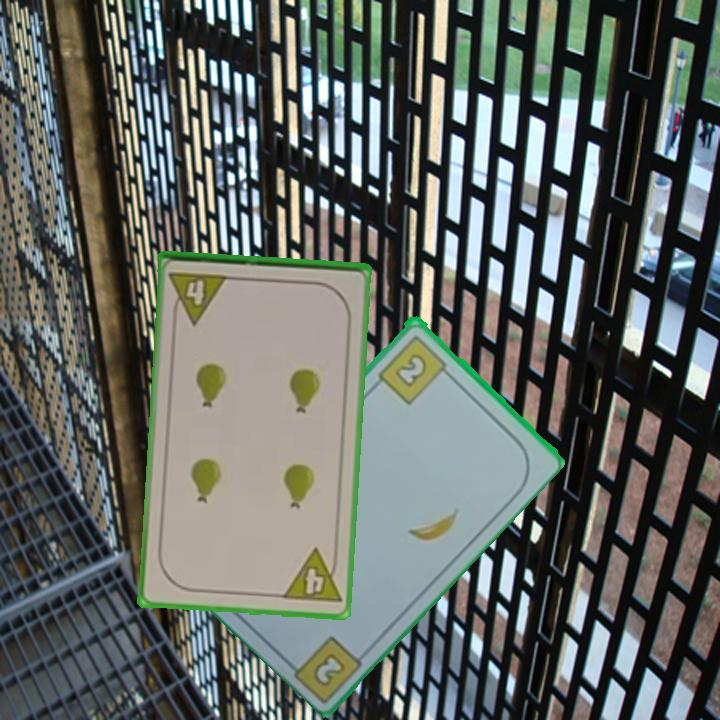2b: (374, 331, 455, 407), (309, 648, 349, 689)
4p: (279, 545, 344, 607), (166, 268, 231, 327)
